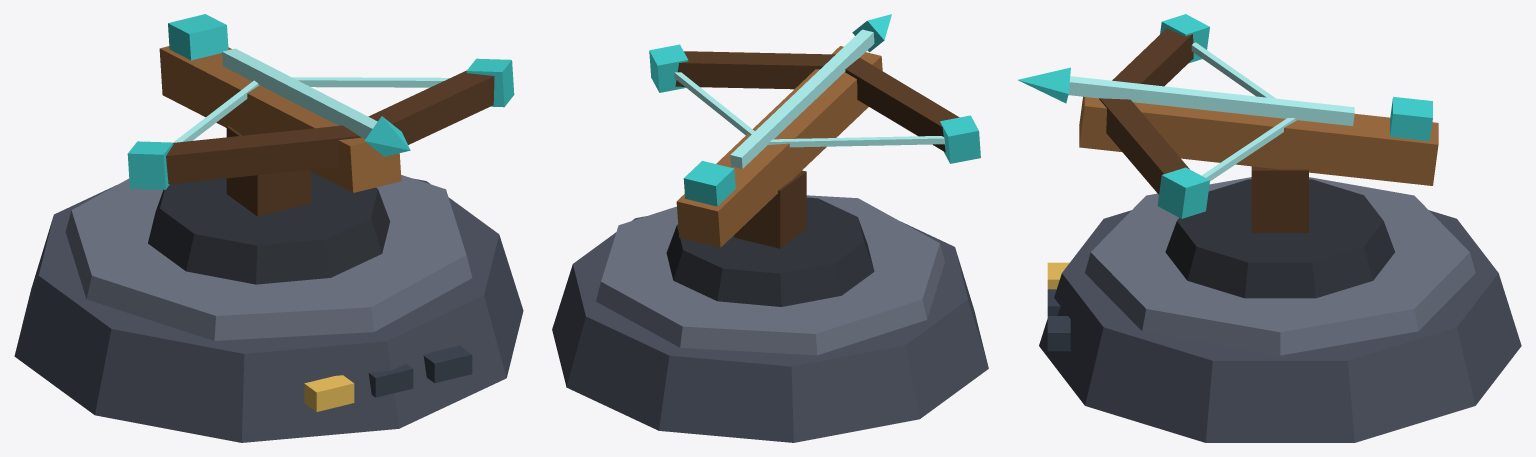
Rendered from ballista-0.glb.
3 views of the same model, side by side, from view 1: azimuth 30°, elevation 25°; view 2: azimuth 150°, elevation 25°; view 3: azimuth 270°, elevation 25° (orthographic). The views are drawn at different scales.
Visible parts, largest first — view 1: ballista-0; view 2: ballista-0; view 3: ballista-0.
Part boxes in pixels (x1=…): ballista-0: x1=14, y1=14, x2=523, y2=442; ballista-0: x1=552, y1=14, x2=988, y2=442; ballista-0: x1=1018, y1=14, x2=1521, y2=442.
Size of the model in its own units: 0.7989 by 0.5347 by 0.8776.
1 material, 1 textured.
